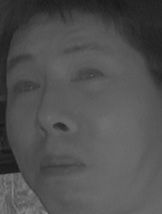eye: (70, 66, 108, 86), (11, 78, 40, 97)
mouth: (36, 149, 90, 184)
